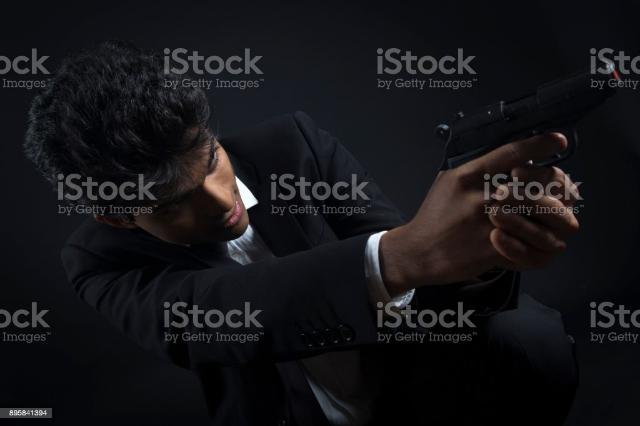handgun: (432, 54, 632, 245)
